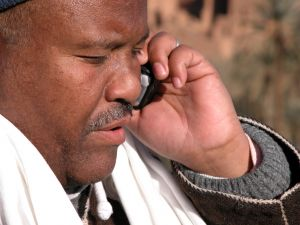phone: (132, 55, 168, 112)
